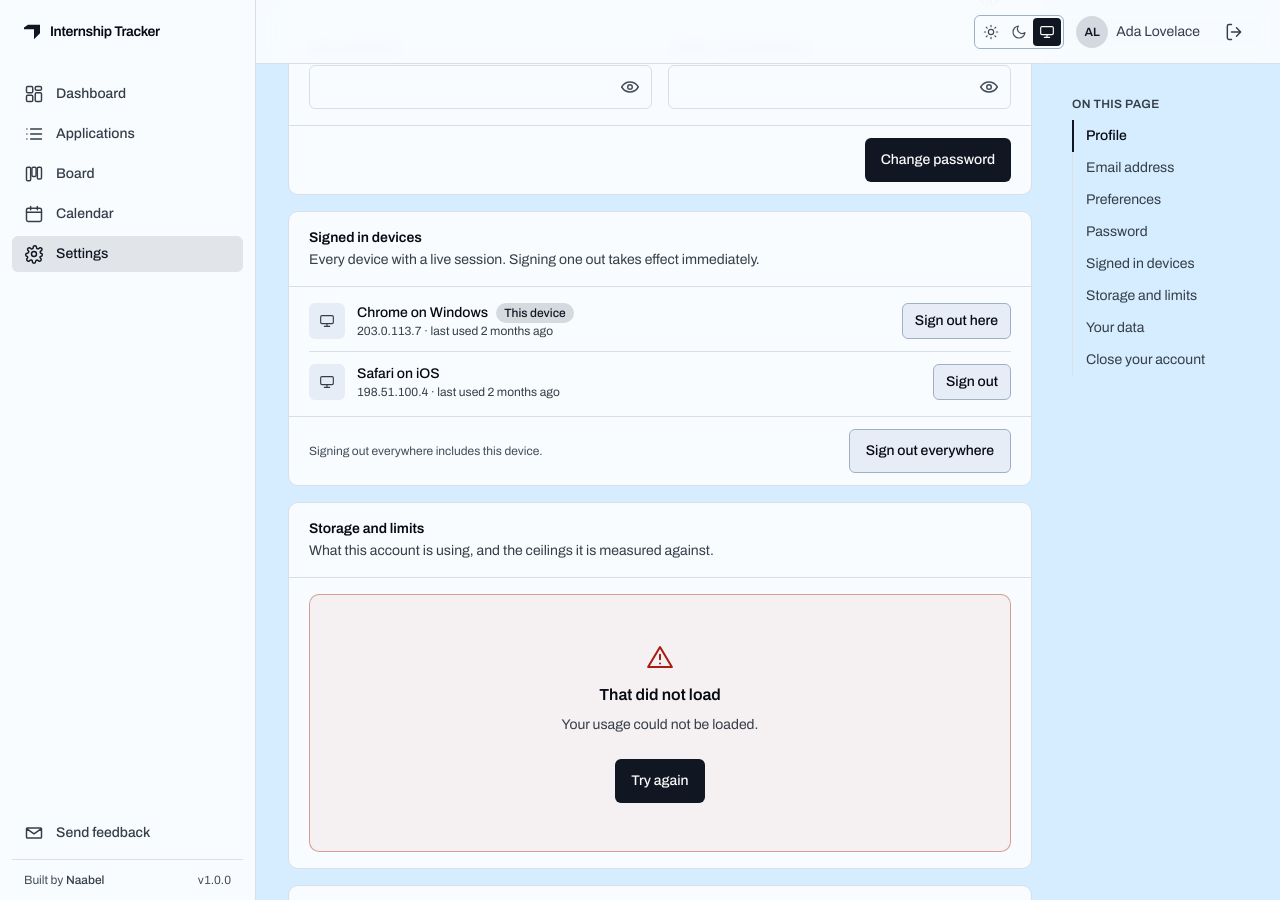
Test: revoking the current session › signs out locally when signing out everywhere
This screenshot has width=1280, height=900.
(page scrolled)
Expected: the text "This device" is shown, [496,303,574,323]
Click the button "Sign out everywhere" at (930, 451), box [849,429,1011,473]
(page scrolled)
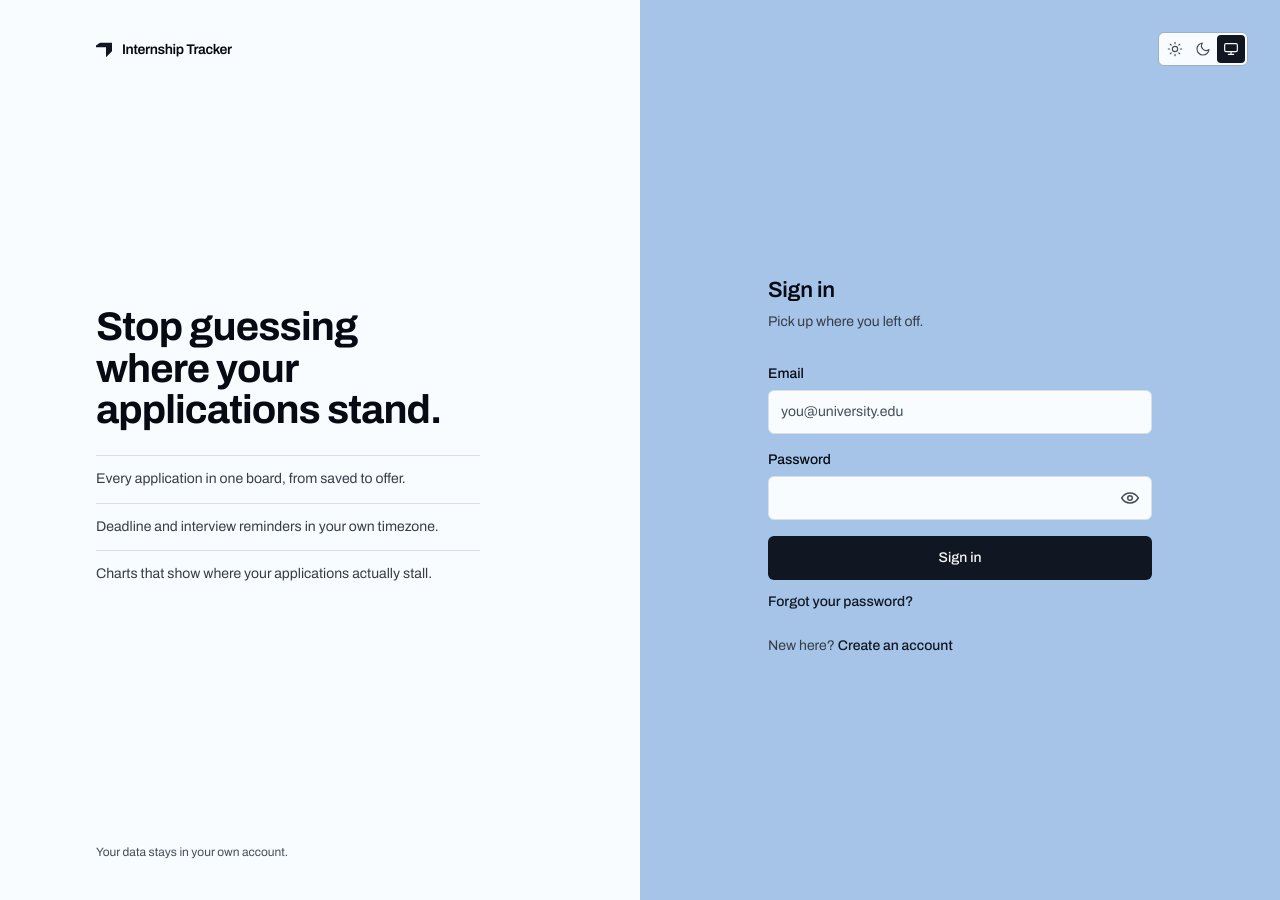
Expected: the heading "Sign in" is shown, [768,278,835,302]
